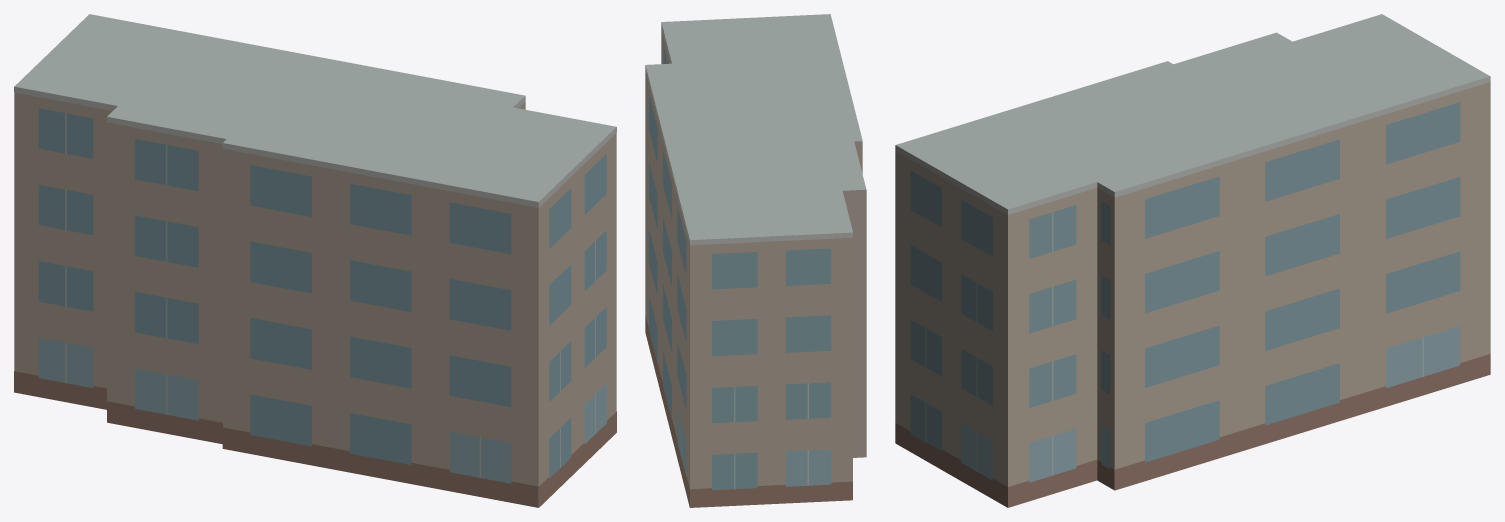
File: survey-upis-32812946.glb
3 renders of one model, left to right at view 1: azimuth 30°, elevation 25°; view 2: azimuth 150°, elevation 25°; view 3: azimuth 270°, elevation 25°, orthographic. The views are drawn at different scales.
Visible parts, largest first — view 1: survey-upis-32812946.tmp; view 2: survey-upis-32812946.tmp; view 3: survey-upis-32812946.tmp.
Boxes of the visible parts, x1,y1,x2,y2 form: survey-upis-32812946.tmp: (14,14,616,507); survey-upis-32812946.tmp: (645,14,866,507); survey-upis-32812946.tmp: (895,14,1490,507).
Size of the model in its own units: 18 by 12.8 by 23.15.
